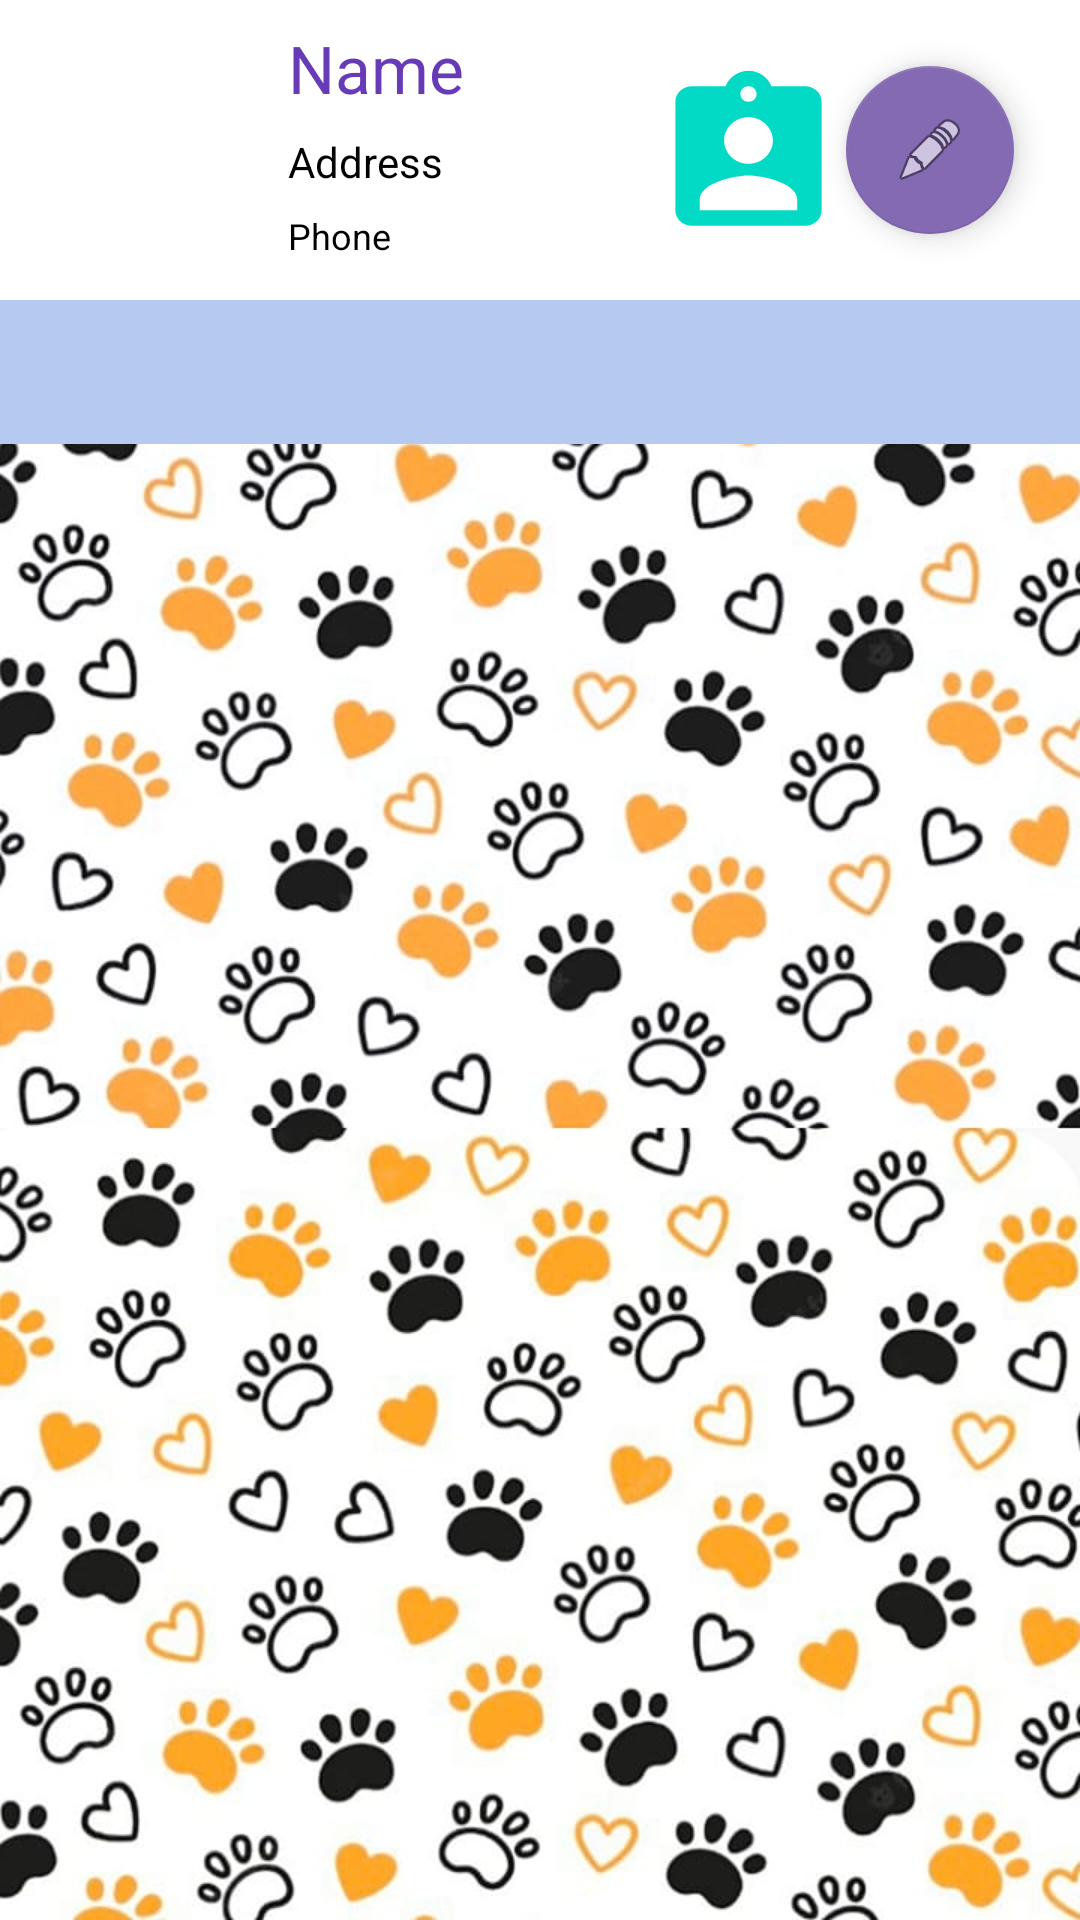

Icons on this 1080 x 1920 Android screen, each with its box as (left=x1, top=y1, right=x2, bottom=y2):
assignment ind: (left=675, top=70, right=822, bottom=226)
edit: (left=846, top=66, right=1014, bottom=234)
